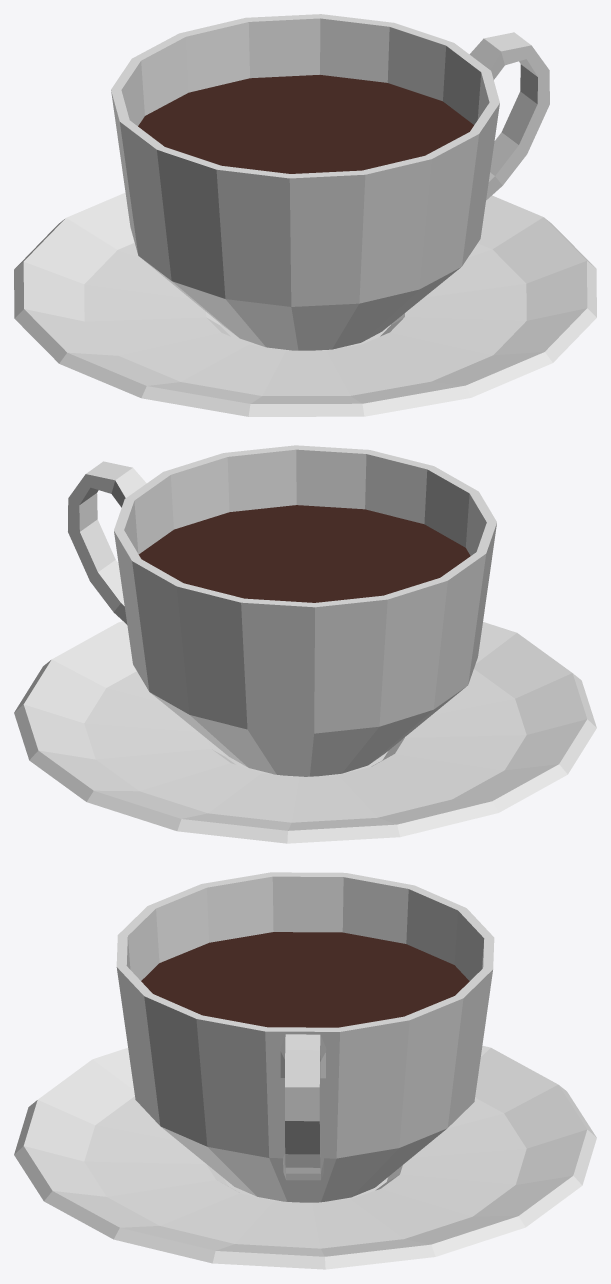
The model's file is Cup_of_tea.fbx.
3 renders of one model, top to bottom at view 1: azimuth 30°, elevation 25°; view 2: azimuth 150°, elevation 25°; view 3: azimuth 270°, elevation 25°, orthographic.
Parts seen in each view (by area): view 1: Cup_of_tea; view 2: Cup_of_tea; view 3: Cup_of_tea.
Part boxes in pixels (x1,y1,x2,y2): Cup_of_tea: [14, 14, 596, 416]; Cup_of_tea: [14, 445, 596, 843]; Cup_of_tea: [14, 872, 596, 1269].
Size of the model in its own units: 0.113 by 0.0505 by 0.113.
1 material, 1 textured.
